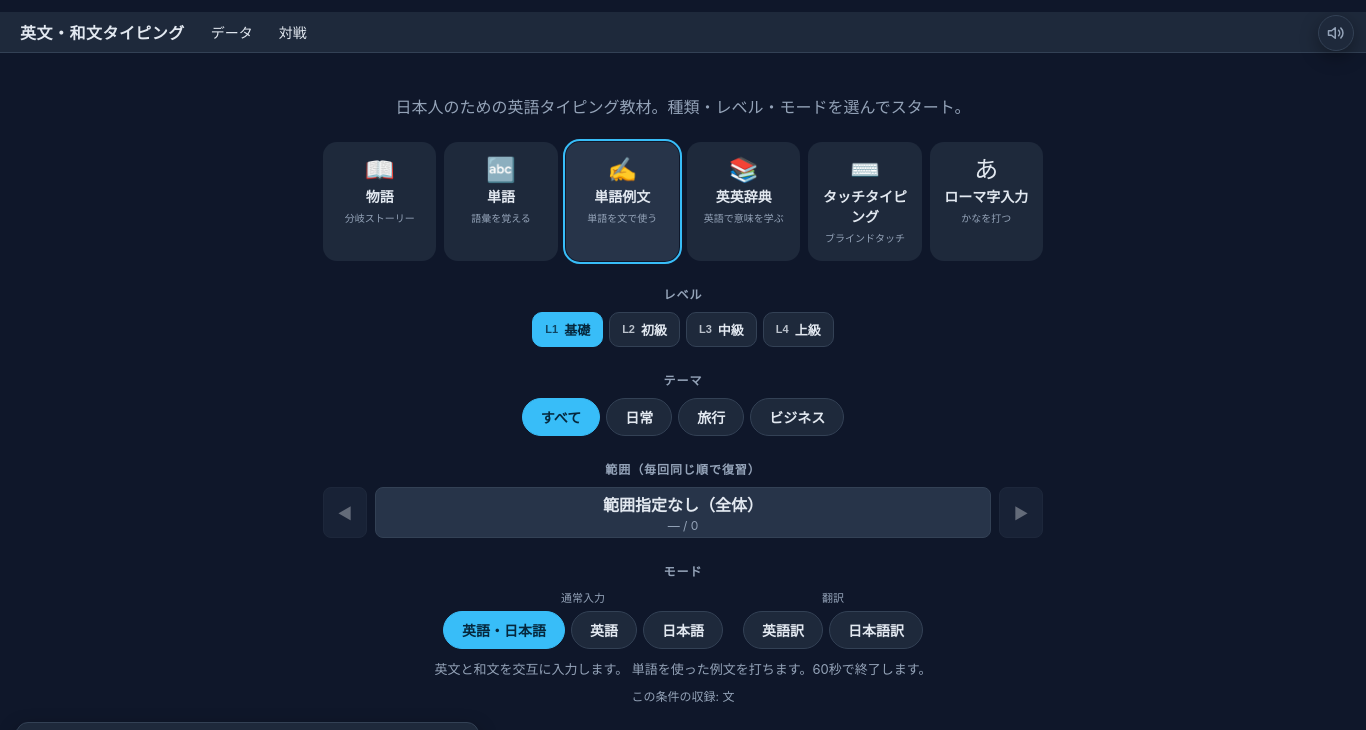
App スモーク › 「タッチタイピング」を選んで開始してもクラッシュせずプレイ画面になる
Click the text "タッチタイピング" at (865, 206), box [818,186,912,226]
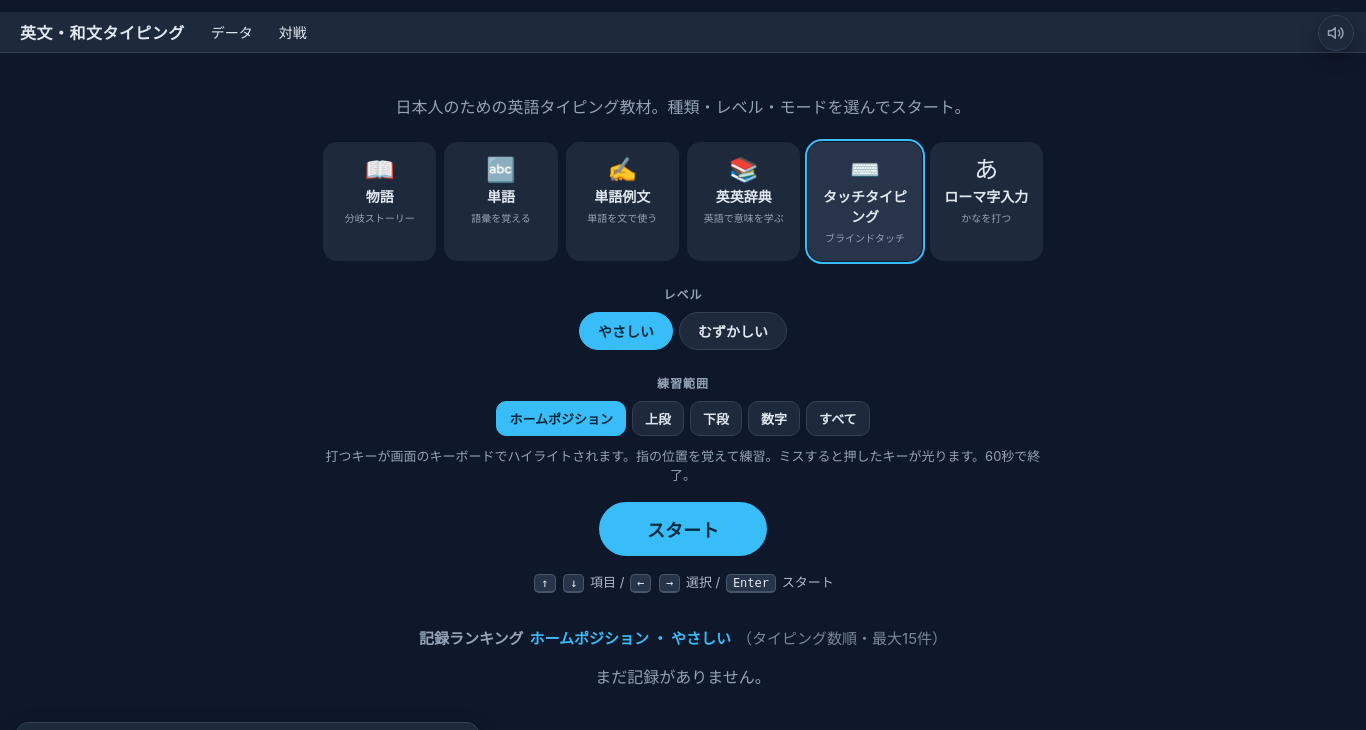
Click the button "スタート" at (683, 529), box [599,502,767,556]
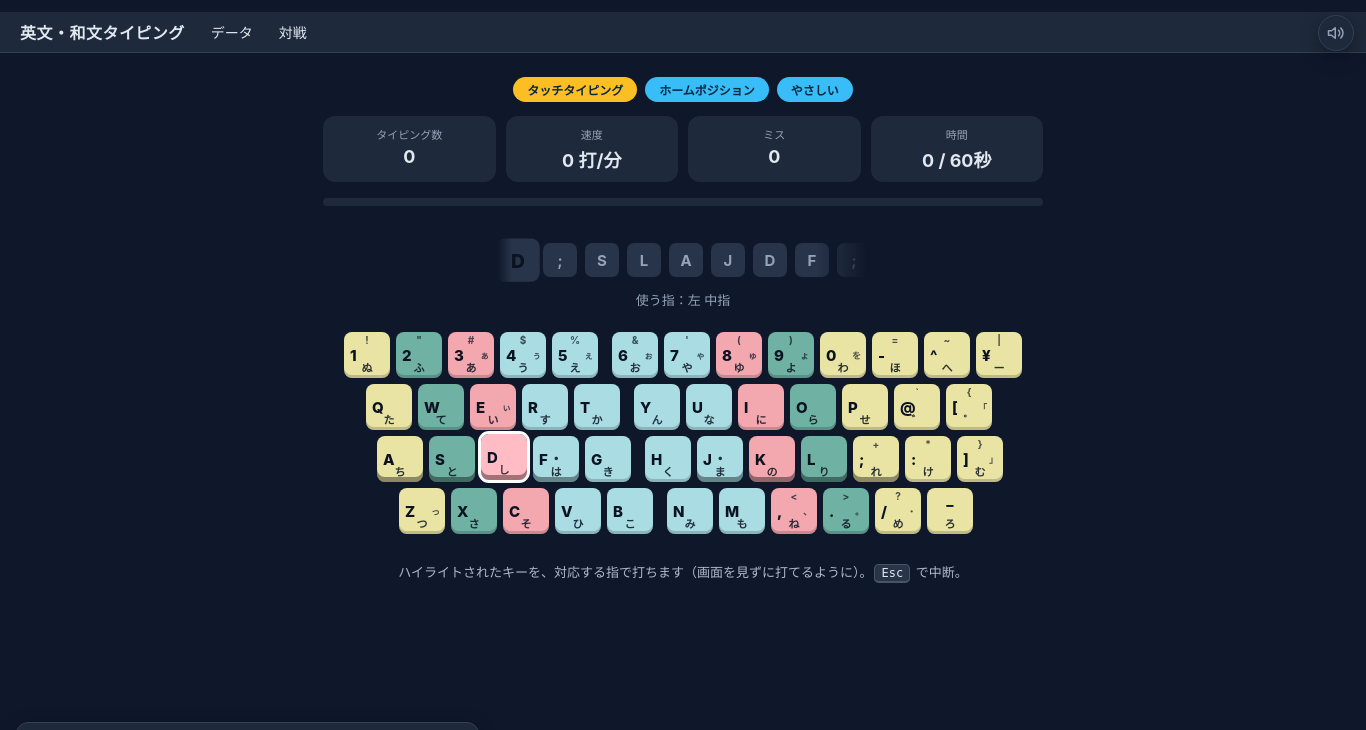
Check: the element with class "ready" is gone
Check: the element that starts with "タッチタイピング" is shown, box [323,77,1043,594]
